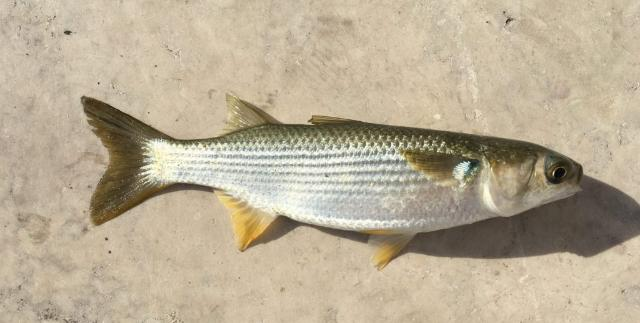Mulut: (568, 154, 594, 208)
Sirip Anal: (210, 180, 280, 256)
Sirip Dada: (397, 139, 483, 189)
Sirip Ekor: (78, 91, 164, 236)
Sirip Perut: (350, 210, 420, 272)
Sirip Punggung: (216, 83, 366, 149)
